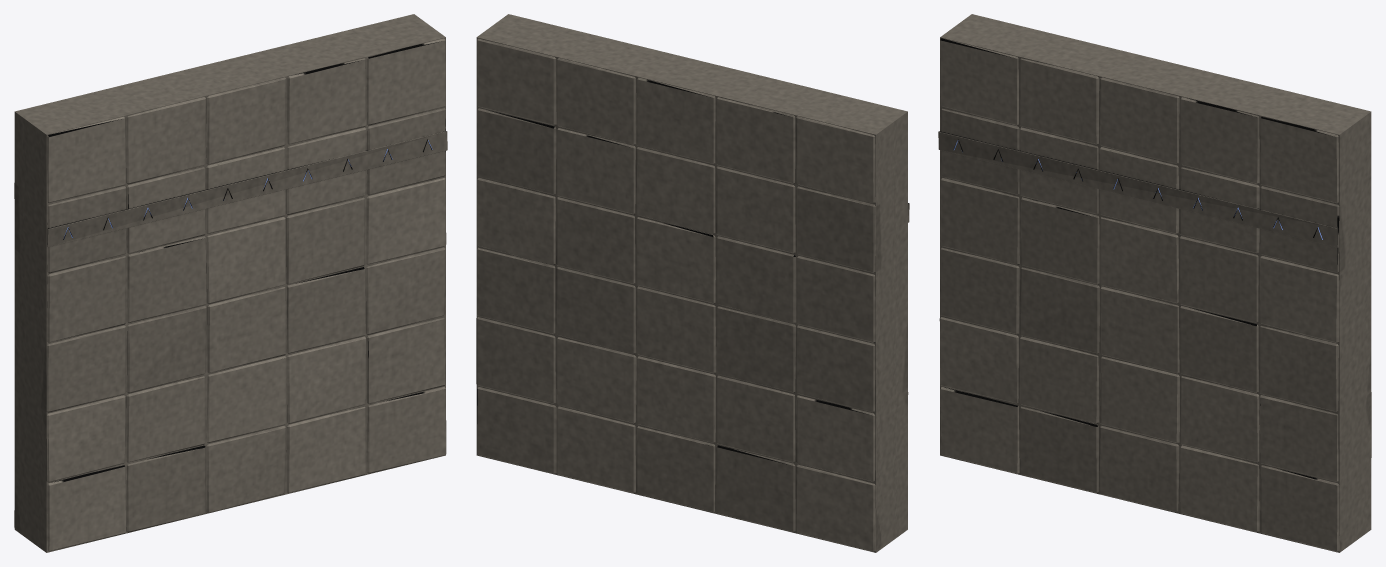
The model's file is arena-wall-segment.glb.
The picture shows the model from 3 angles, left to right: view 1: azimuth 30°, elevation 25°; view 2: azimuth 150°, elevation 25°; view 3: azimuth 330°, elevation 25°; orthographic projection.
Parts seen in each view (by area): view 1: arena-wall-segment; view 2: arena-wall-segment; view 3: arena-wall-segment.
Boxes of the visible parts, box(x1,y1,x2,y2) form: arena-wall-segment: box(14, 14, 447, 552); arena-wall-segment: box(476, 14, 909, 552); arena-wall-segment: box(938, 14, 1371, 552).
Size of the model in its own units: 4 by 4 by 0.6.
1 material, 1 textured.
